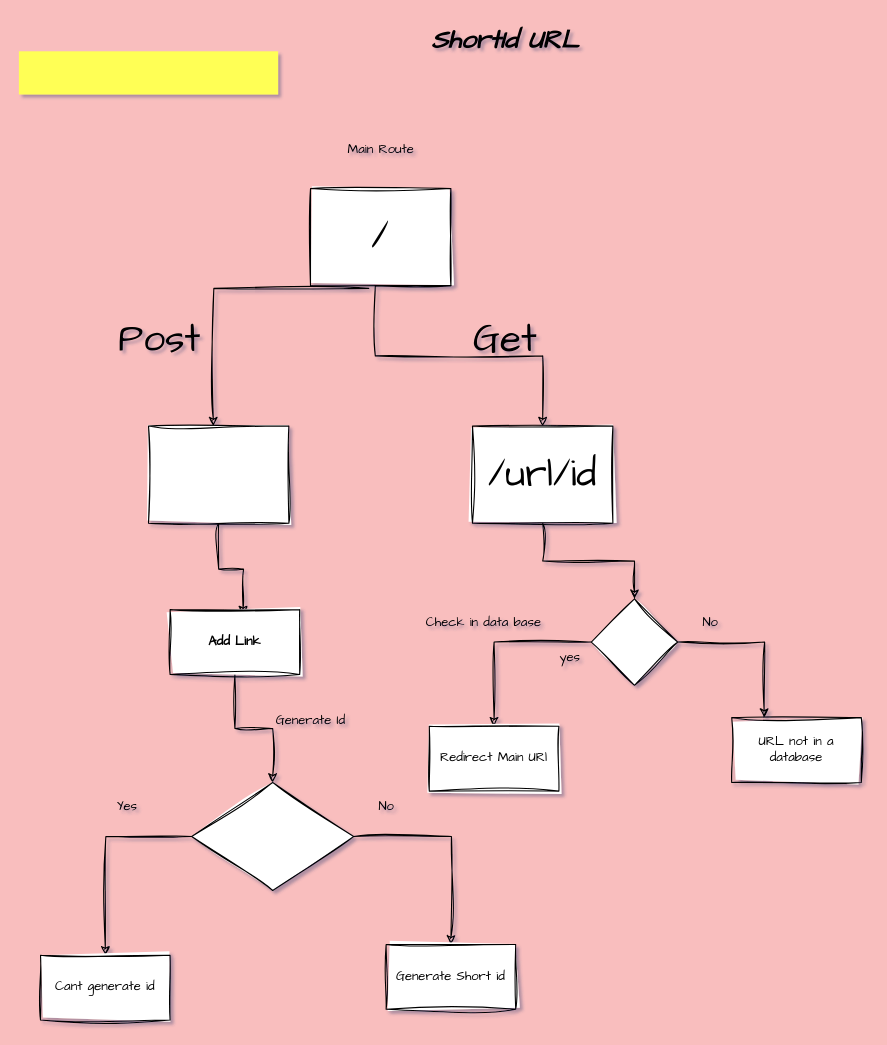
This 887x1045 diagram has some shape labels left out. Here are the shapes that lost their labels. From the top down, the centre of each, then its label:
At point (148, 72): "Required : short id".
At point (218, 474): "/url".
At point (634, 641): "ID".
At point (272, 835): "check id is corrected or not".
